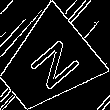N_SW: (16, 33, 79, 96)
